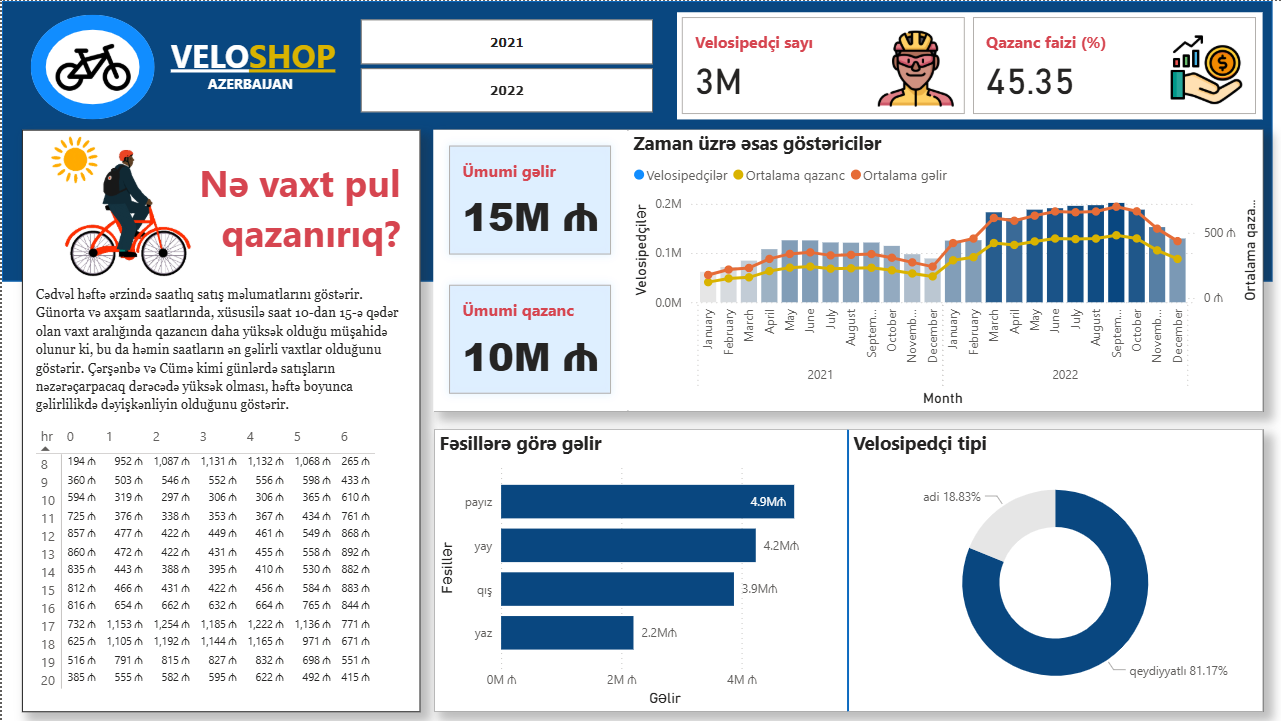

The page's visual inventory and layout, read from the dashboard file:
{"tool":"powerbi","page":{"name":"Page 1","canvas":[1280,720],"ordinal":0},"visuals":[{"type":"shape","box":[0,0,1270.7,280.5],"z":0},{"type":"card","fields":{"Values":["Query1.riders"]},"box":[432.3,128.4,828.9,281.8],"z":1000},{"type":"card","fields":{"Values":["Query1.riders"]},"box":[19.6,128.4,398.6,582.1],"z":2000},{"type":"pivotTable","fields":{"Values":["Query1.gəlir"],"Columns":["Query1.weekday"],"Rows":["Query1.hr"]},"box":[29.3,420.7,374.2,284.9],"z":3000},{"type":"textbox","box":[29.3,278.8,374.2,150.4],"z":4000},{"type":"card","fields":{"Values":["Query1.riders"]},"box":[432.3,429.4,828.9,281.8],"z":6000},{"type":"textbox","box":[176.1,151.6,227.4,129.6],"z":6750},{"type":"image","box":[19.6,128.4,196.9,152.9],"z":6875},{"type":"clusteredBarChart","title":"Fəsillərə görə gəlir","fields":{"Category":["Query1.Fəsillər"],"Y":["Query1.gəlir"]},"box":[432.3,429.4,414.4,281.8],"z":7000},{"type":"donutChart","title":"Velosipedçi tipi","fields":{"Category":["Query1.Tip"],"Y":["Query1.riders"]},"box":[846.8,429.4,414.4,281.8],"z":8000},{"type":"cardVisual","title":"Zaman üzrə əsas göstəricilər","fields":{"Data":["Query1.gəlir","Query1.qazanc"]},"box":[431.7,128.4,194.4,281.3],"z":10000},{"type":"shape","box":[696.3,429.4,299.6,281.8],"z":11000},{"type":"lineClusteredColumnComboChart","title":"Zaman üzrə əsas göstəricilər","fields":{"Category":["Query1.dteday.Variation.Date Hierarchy.Year","Query1.dteday.Variation.Date Hierarchy.Month","Query1.dteday.Variation.Date Hierarchy.Day"],"Y":["Query1.riders"],"Y2":["Query1.qazanc","Query1.gəlir"]},"box":[626.1,128.4,634.7,281.3],"z":12000},{"type":"cardVisual","fields":{"Data":["Query1.riders","Query1.Qazanc Faizi"]},"box":[675.2,11,585.8,107.3],"z":13000},{"type":"shape","box":[28.9,13.8,123.8,104.5],"z":14000},{"type":"image","box":[48.1,17.9,85.3,97.6],"z":15000},{"type":"textbox","box":[163.6,27.5,189.8,68.8],"z":16000},{"type":"textbox","box":[163.6,67.4,169.1,48.1],"z":17000},{"type":"slicer","fields":{"Values":["Query1.Years"]},"box":[332.8,11,342.4,107.3],"z":18000}]}

Visuals, with their boxes in screenshot pixels (x1, y1, x2, y2), scaled from the page's 1280x720 canvas onto the 1281x721 screenshot:
shape: 0,0,1272,281
card - Query1.riders: 433,129,1262,411
card - Query1.riders: 20,129,419,711
pivotTable - Query1.gəlir x Query1.weekday: 29,421,404,707
textbox: 29,279,404,430
card - Query1.riders: 433,430,1262,712
textbox: 176,152,404,282
image: 20,129,217,282
"Fəsillərə görə gəlir" clusteredBarChart: 433,430,847,712
"Velosipedçi tipi" donutChart: 847,430,1262,712
"Zaman üzrə əsas göstəricilər" cardVisual: 432,129,627,410
shape: 697,430,997,712
"Zaman üzrə əsas göstəricilər" lineClusteredColumnComboChart: 627,129,1262,410
cardVisual - Query1.riders x Query1.Qazanc Faizi: 676,11,1262,118
shape: 29,14,153,118
image: 48,18,134,116
textbox: 164,28,354,96
textbox: 164,67,333,116
slicer - Query1.Years: 333,11,676,118
